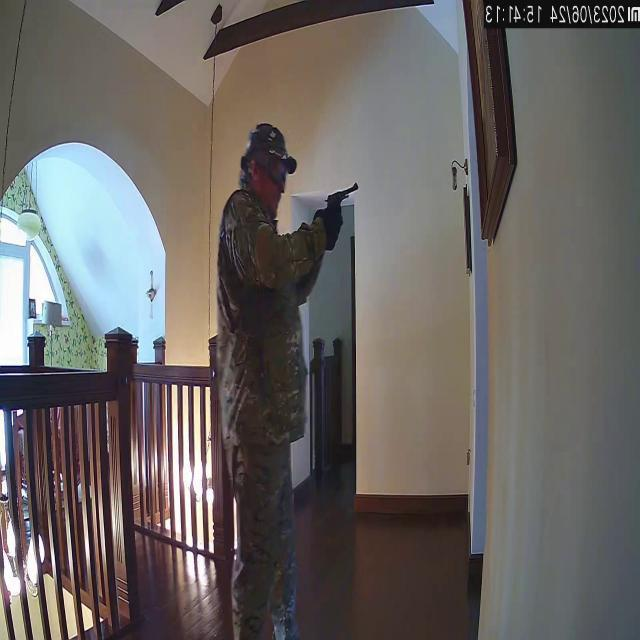pistol: (324, 182, 358, 218)
